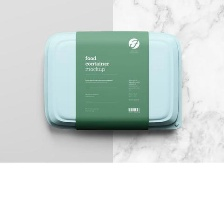plastic_box: (34, 23, 188, 138)
